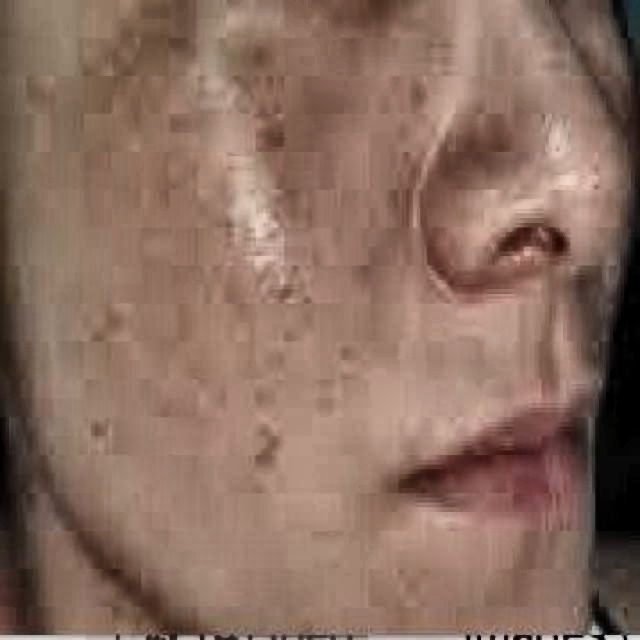comedone: (234, 114, 284, 154)
